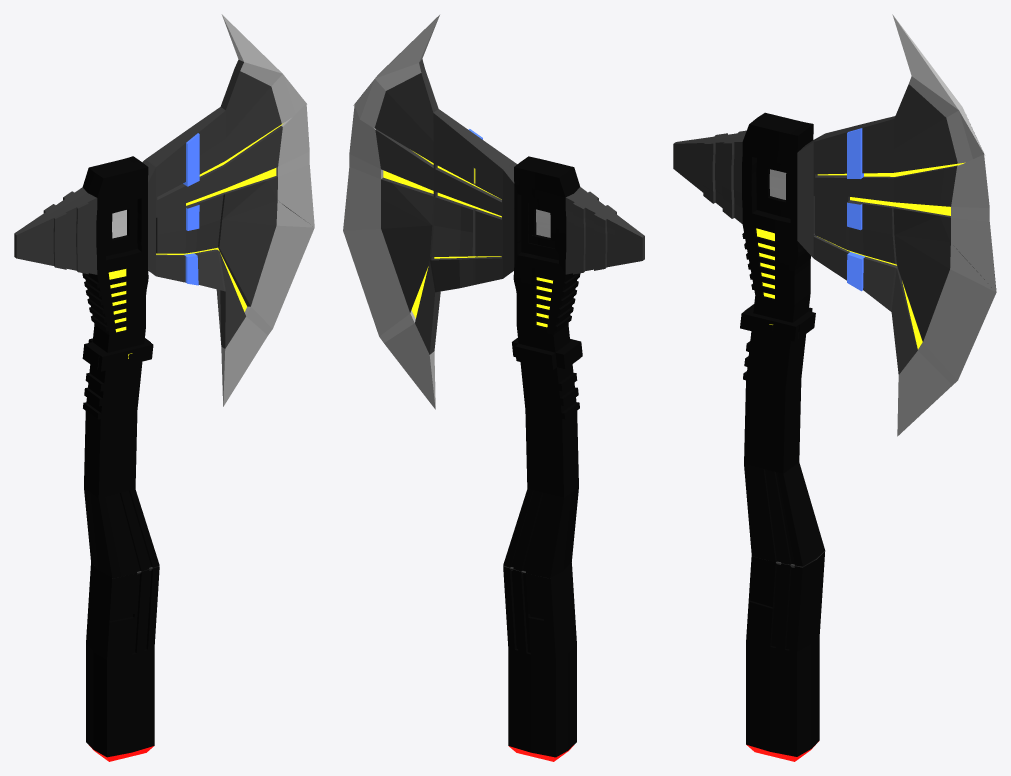
Rendered from Axe_Towards_Backwards.fbx.
The picture shows the model from 3 angles, left to right: view 1: azimuth 30°, elevation 25°; view 2: azimuth 150°, elevation 25°; view 3: azimuth 330°, elevation 25°; orthographic projection. The views are drawn at different scales.
Parts seen in each view (by area): view 1: Plane; view 2: Plane; view 3: Plane.
Part boxes in pixels (left/top/right/bottom): Plane: left=14, top=14, right=314, bottom=761; Plane: left=343, top=15, right=644, bottom=761; Plane: left=673, top=14, right=996, bottom=761.
Size of the model in its own units: 47.41 by 108 by 6.48.
